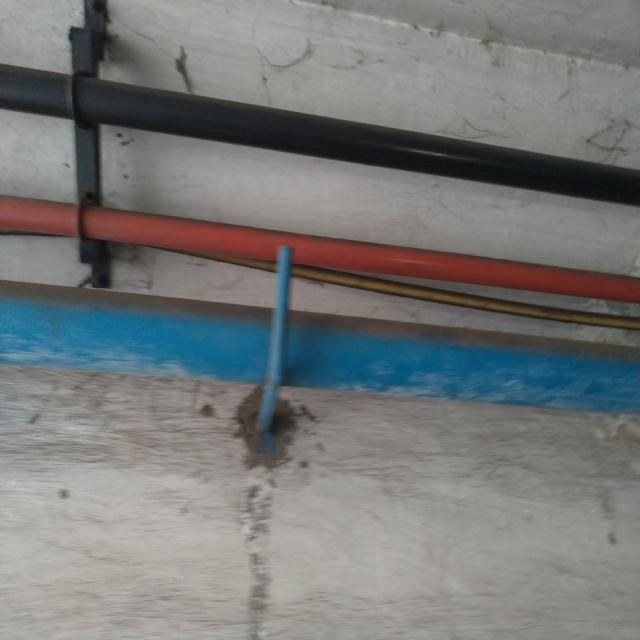gas: (4, 279, 637, 411), (15, 68, 622, 196), (6, 200, 636, 303)
